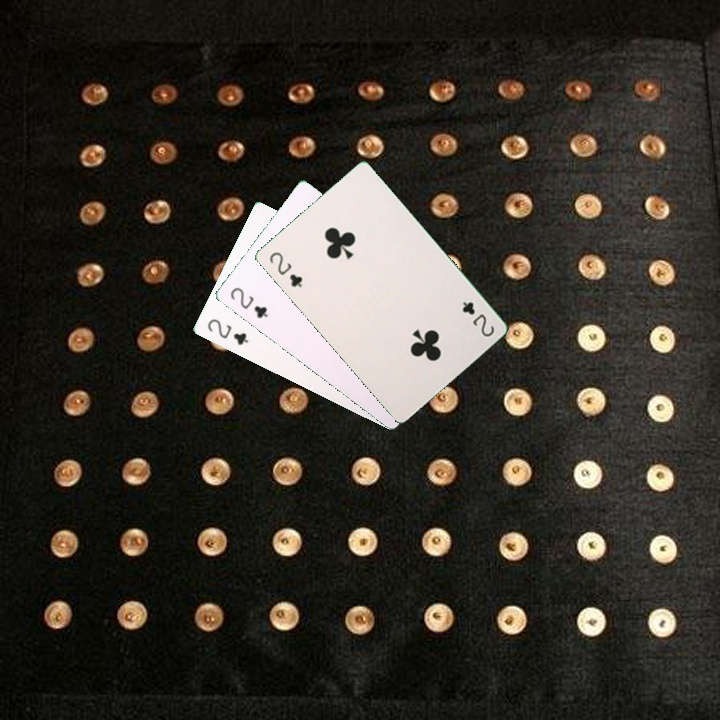2c: (265, 247, 305, 290), (226, 283, 270, 321), (458, 297, 497, 339), (203, 314, 251, 348)
